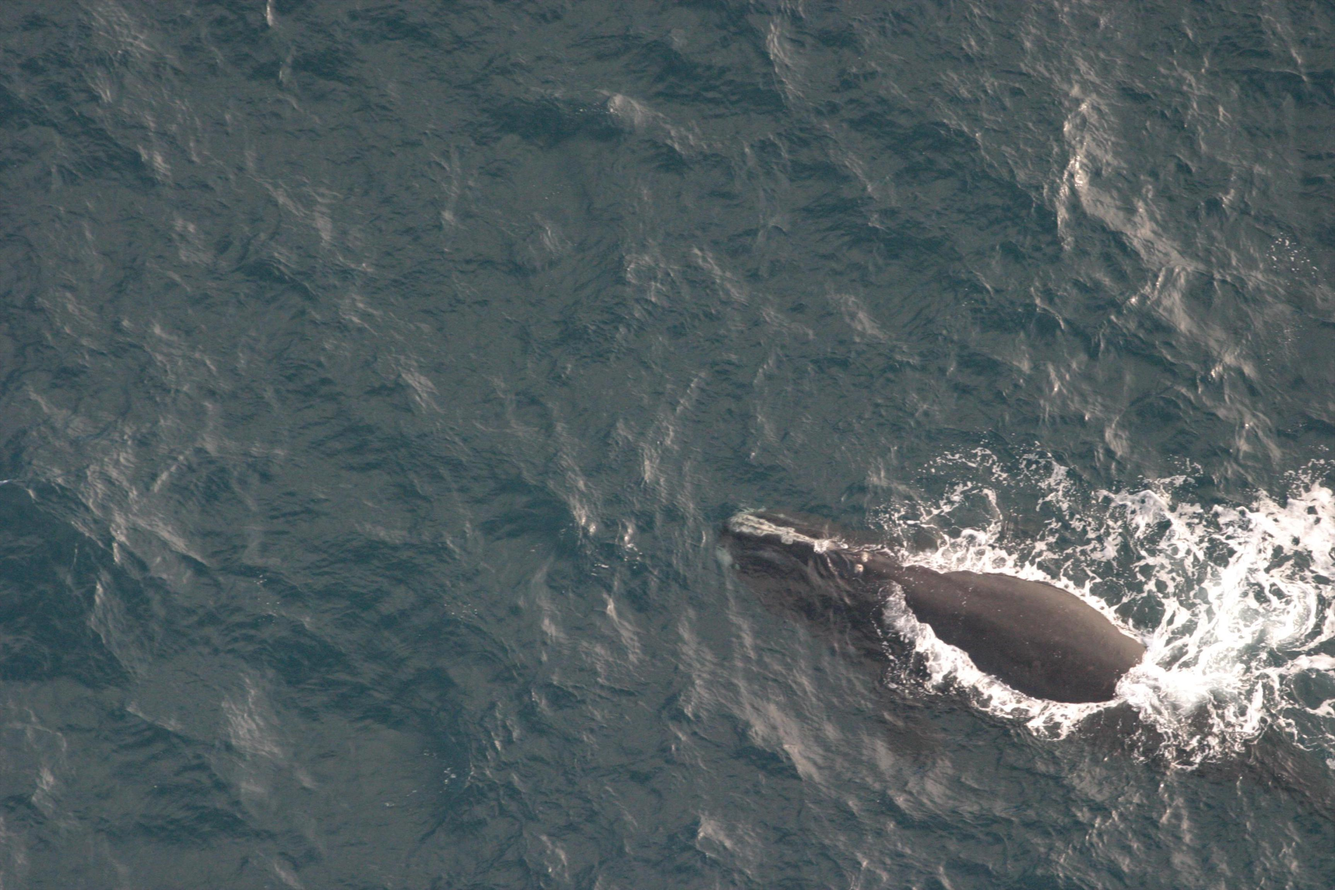whale: (706, 494, 1335, 794)
